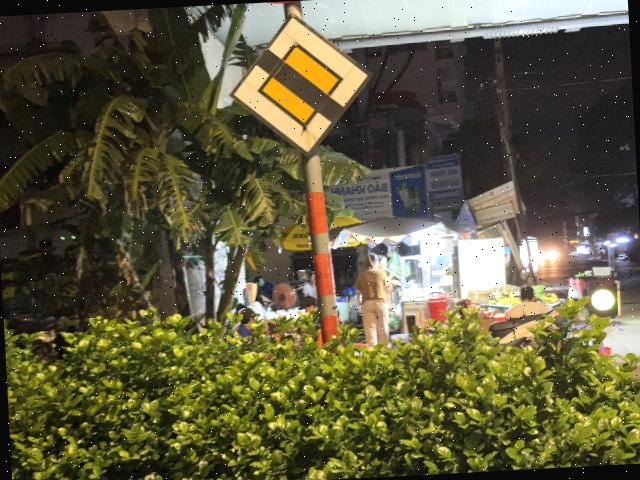het-duong-uu-tien: (224, 8, 378, 162)
